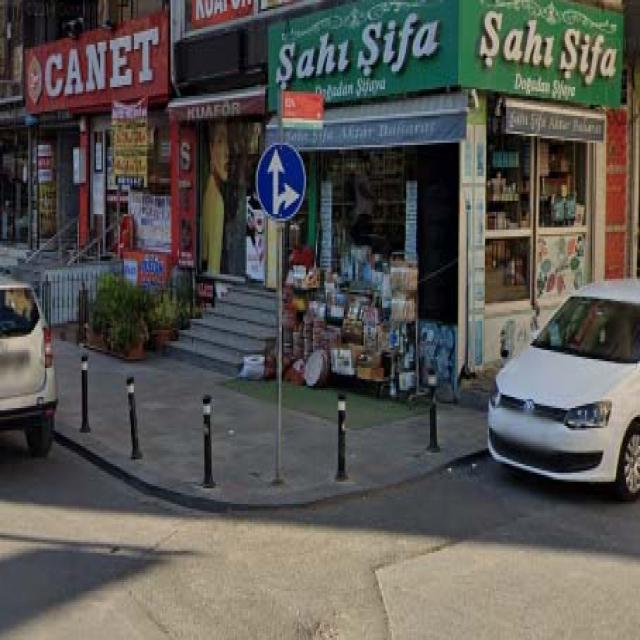ilerisag: (255, 143, 306, 223)
